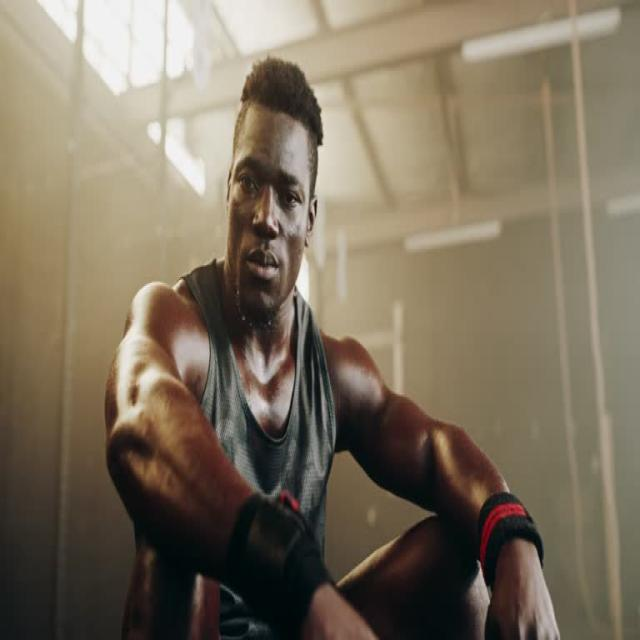no_helmet: (228, 166, 337, 267)
